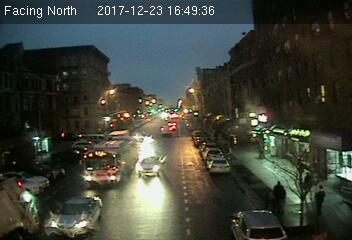bus: (81, 133, 141, 186)
car: (46, 193, 103, 235), (226, 207, 291, 240), (137, 155, 165, 176), (206, 157, 230, 173)
